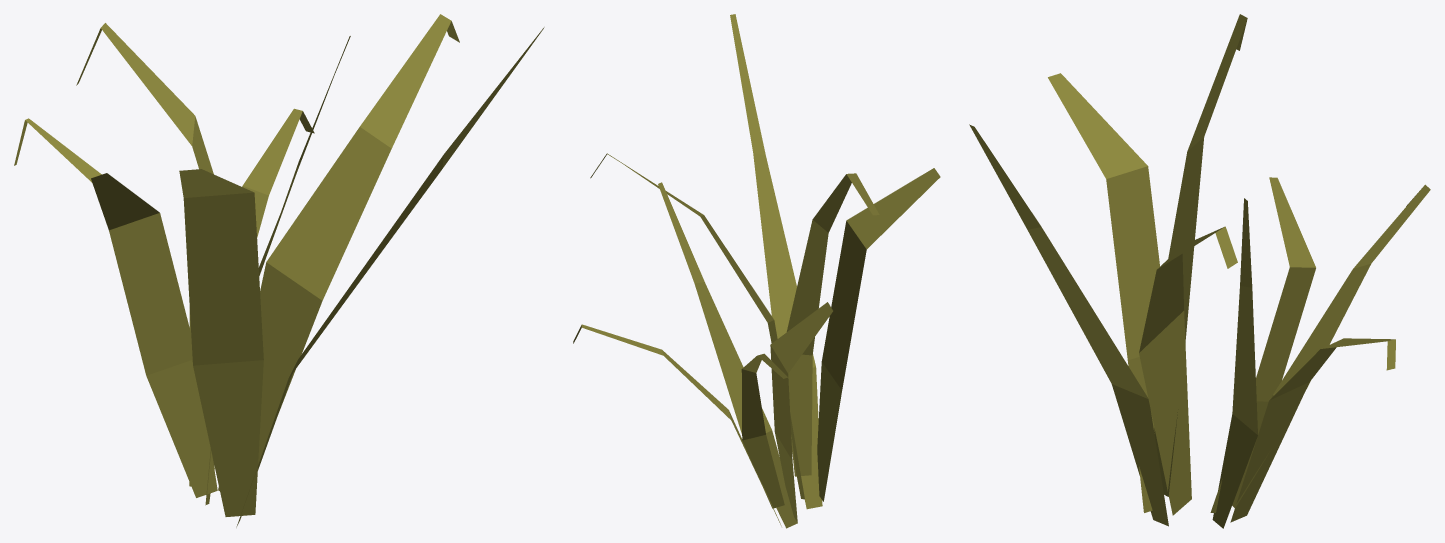
The model's file is grass 1.fbx.
3 renders of one model, left to right at view 1: azimuth 30°, elevation 25°; view 2: azimuth 150°, elevation 25°; view 3: azimuth 270°, elevation 25°, orthographic. The views are drawn at different scales.
Parts seen in each view (by area): view 1: plant; view 2: plant; view 3: plant.
Boxes of the visible parts, <box> form: plant: <box>14,14,544,527</box>; plant: <box>573,14,940,528</box>; plant: <box>969,14,1430,528</box>.
Size of the model in its own units: 60.06 by 78.99 by 66.47.
